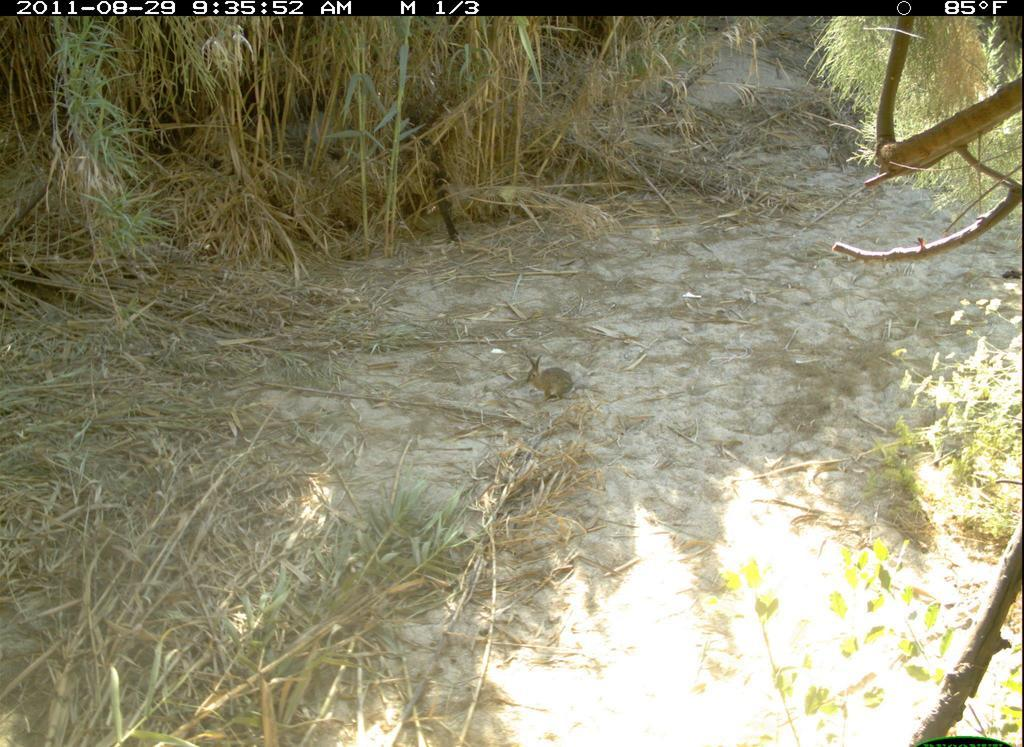rabbit: (519, 342, 585, 406)
